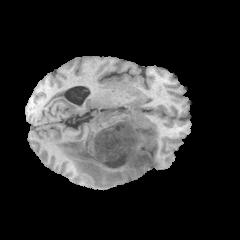glioma: (54, 103, 158, 188)
